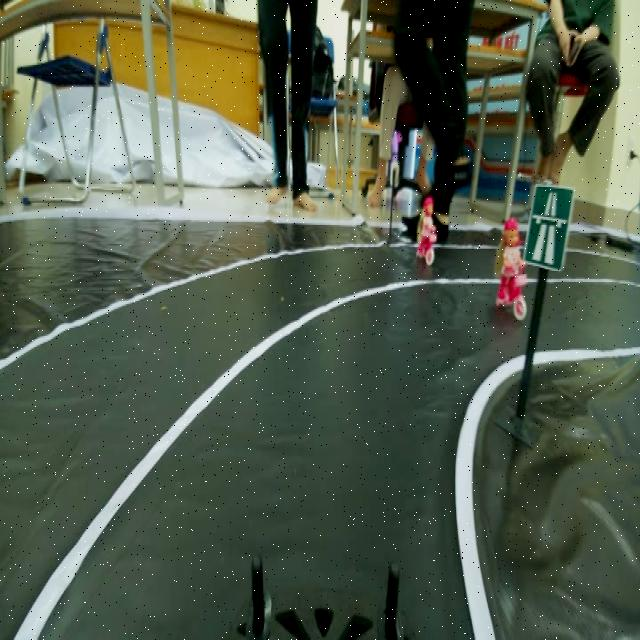highway_entry: (531, 180, 570, 273)
pedestrian: (494, 204, 528, 320), (413, 187, 438, 272)
